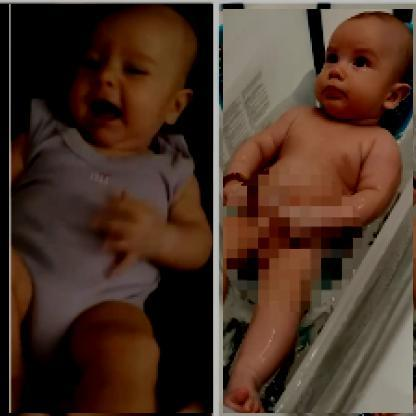child: (10, 5, 215, 415), (224, 10, 415, 415)
